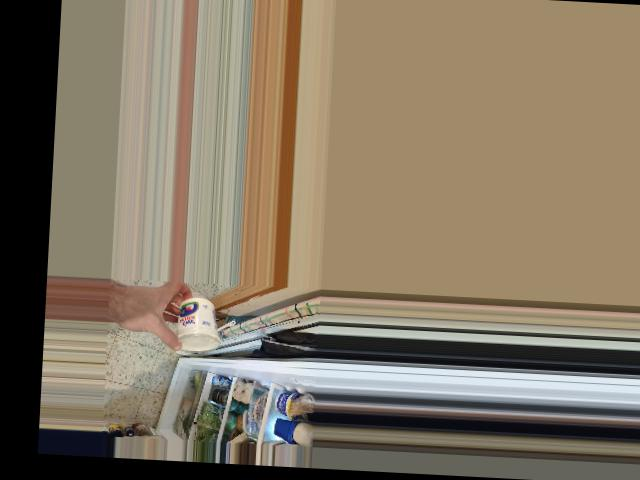cotage: (174, 296, 221, 351)
